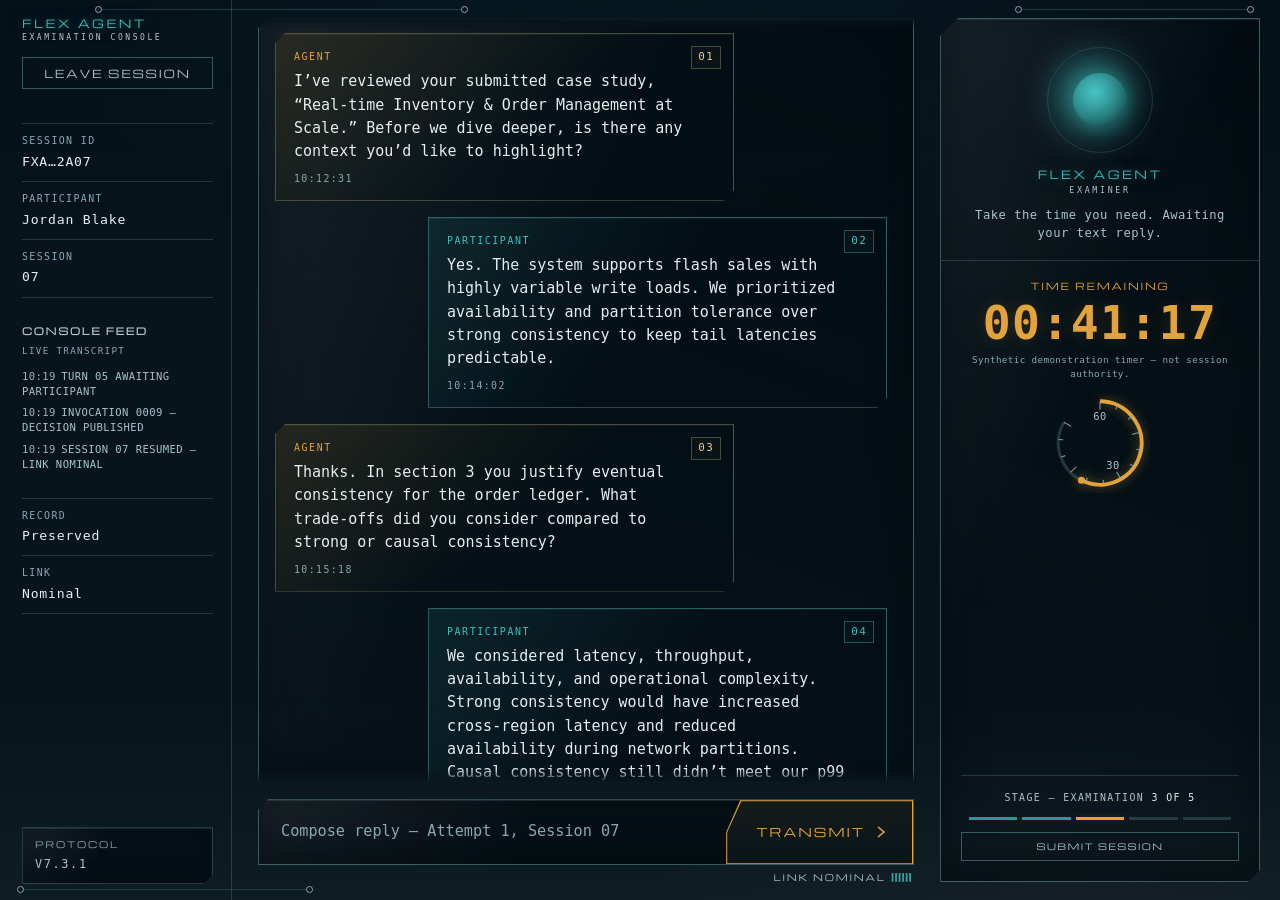
it: PC-08 session specimen › seats submit and leave ceremonies on the shared dialog plate with an accessible footer
Click the button "Submit Session" at {"x": 1100, "y": 847}, box [961, 832, 1239, 861]
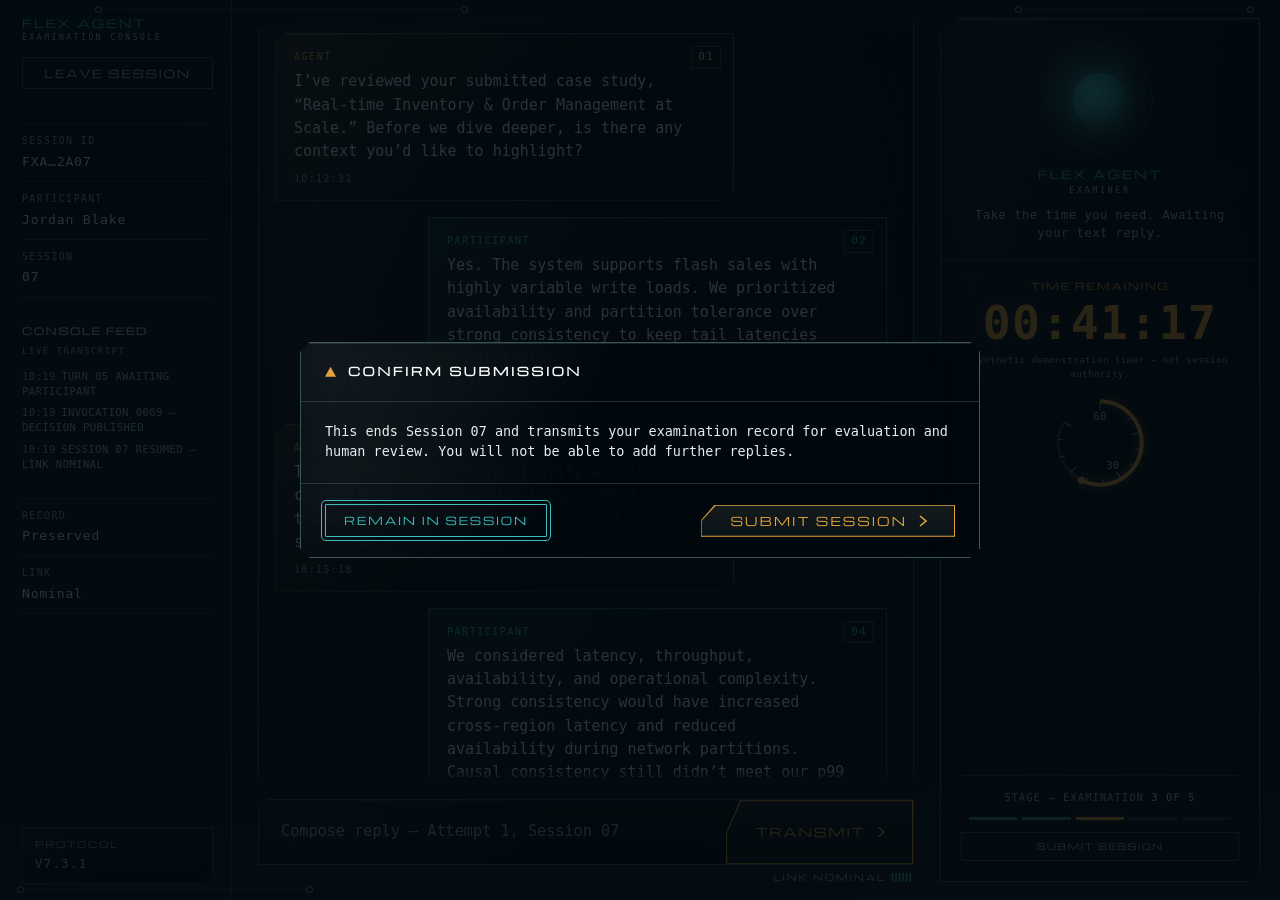
Now the element with class "dialog-plate" is shown, box [300, 342, 980, 558]
Now the button "Remain in Session" is shown
Now the button "Submit Session" is shown, box [701, 505, 955, 537]
Click the button "Remain in Session" at {"x": 436, "y": 521}, box [325, 504, 547, 537]
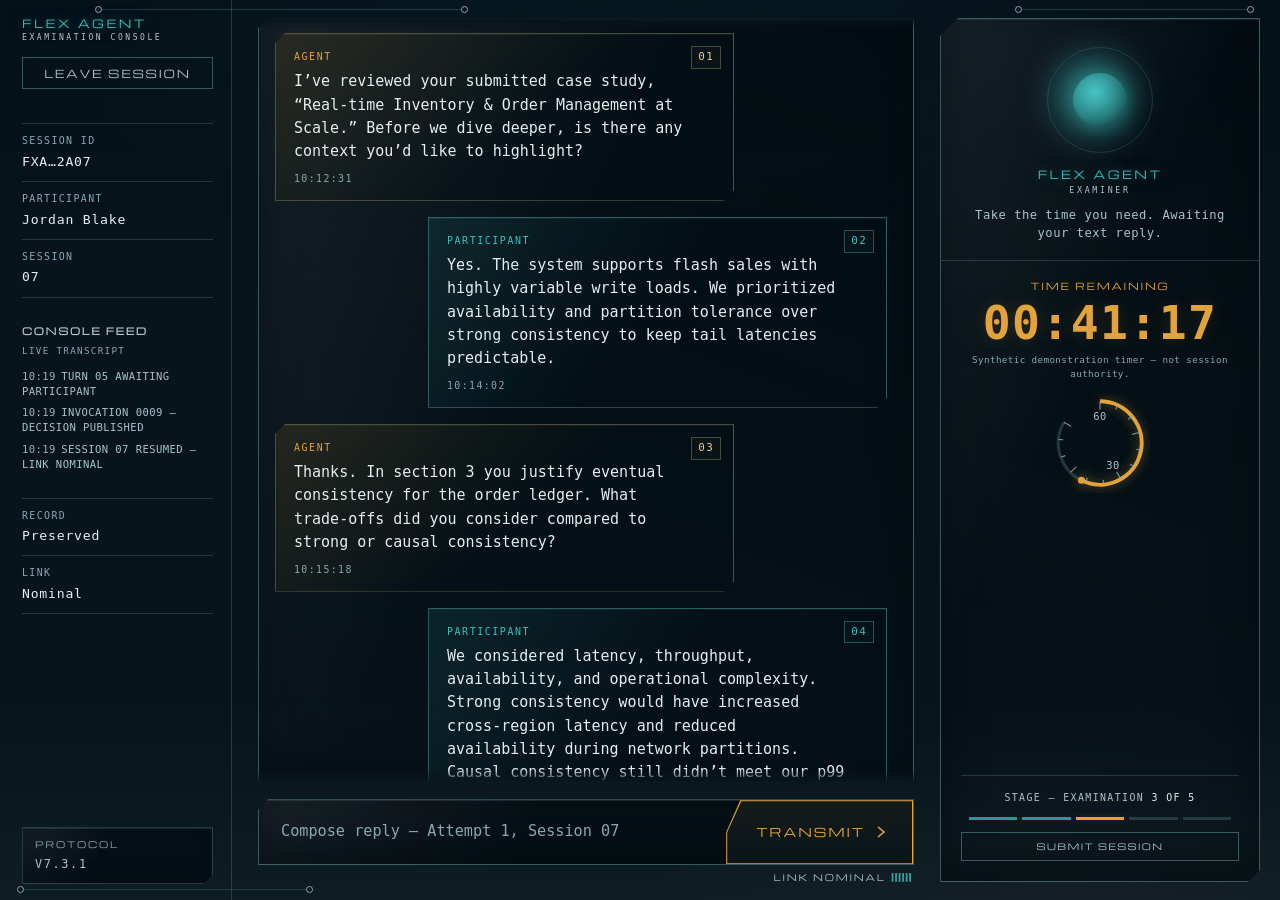
Now the heading "Confirm Submission" is gone
Click the button "Leave session" at {"x": 118, "y": 73}, box [22, 57, 213, 90]
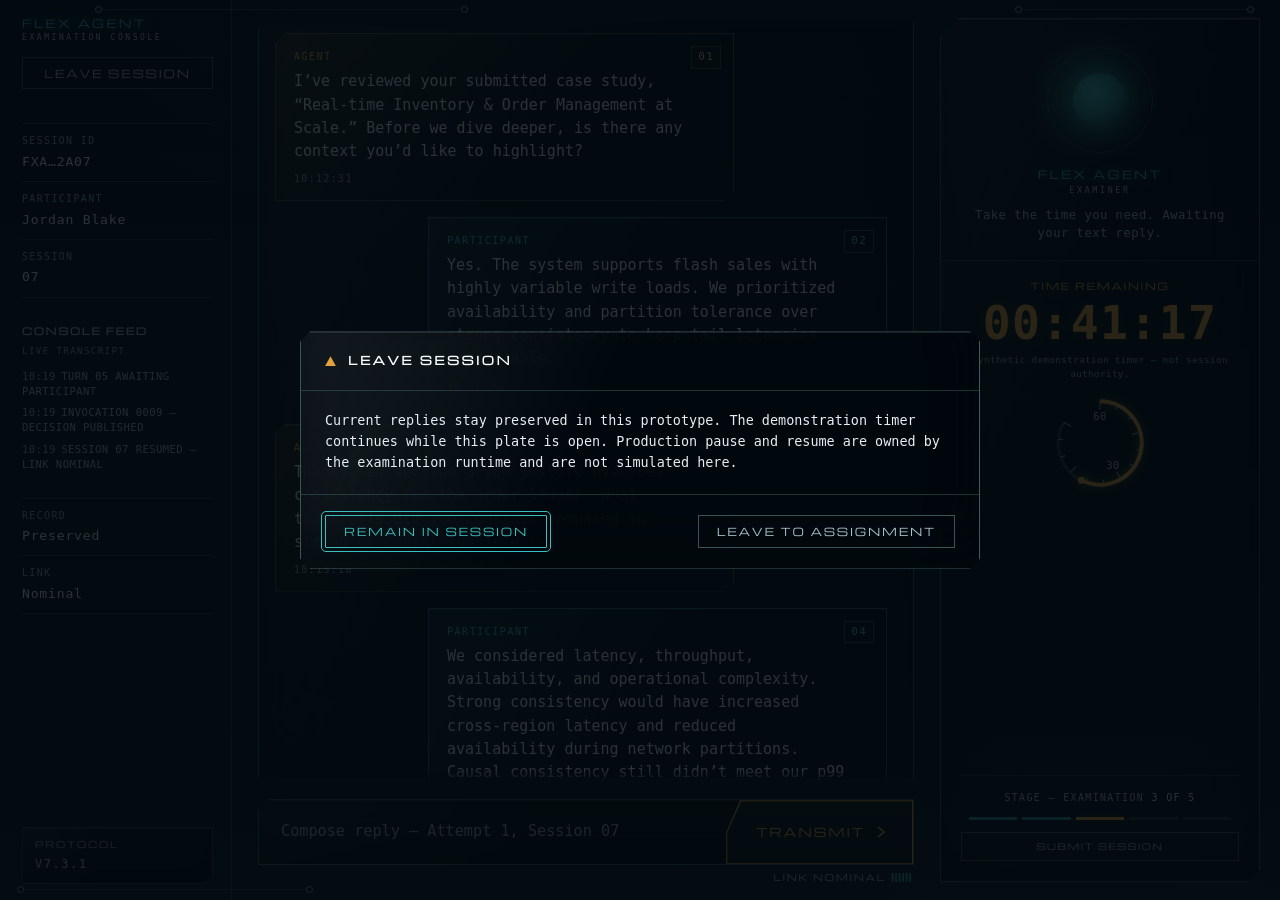
Now the element with class "dialog-plate" is shown, box [300, 331, 980, 569]
Now the button "Remain in session" is shown, box [325, 515, 547, 548]
Now the link "Leave to assignment" is shown, box [698, 515, 955, 548]
